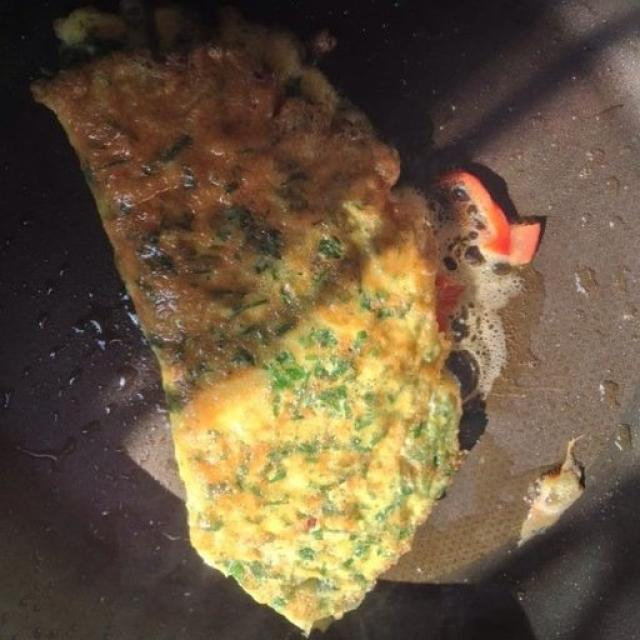telur_ayam_dadar: (19, 19, 462, 634)
